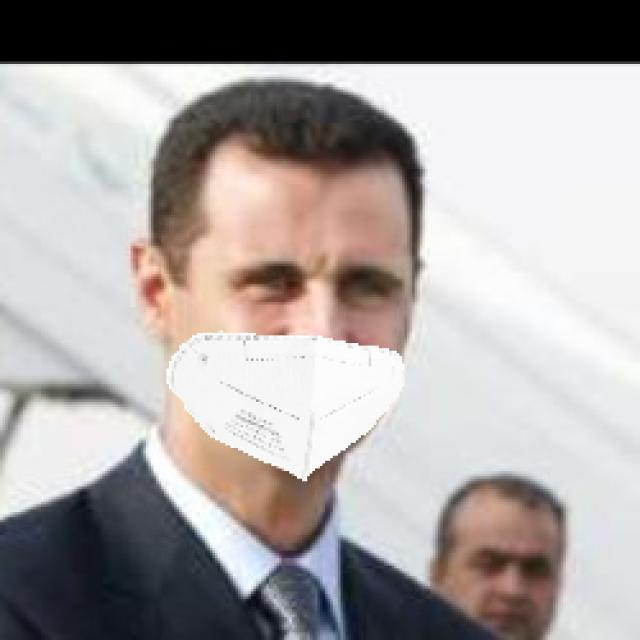kn95: (163, 136, 429, 474)
